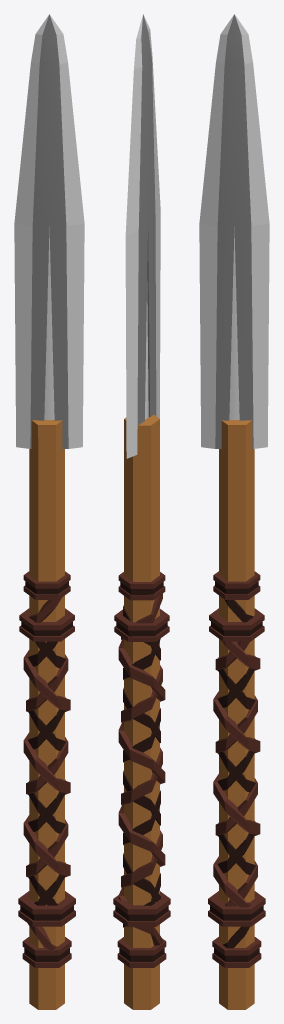
The model's file is Axe5.glb.
The picture shows the model from 3 angles, left to right: view 1: azimuth 90°, elevation 25°; view 2: azimuth 150°, elevation 25°; view 3: azimuth 270°, elevation 25°; orthographic projection.
Visible parts, largest first — view 1: weapon_generator; view 2: weapon_generator; view 3: weapon_generator.
Boxes of the visible parts, <box> form: weapon_generator: <box>14,14,84,1009</box>; weapon_generator: <box>113,14,170,1009</box>; weapon_generator: <box>199,14,269,1009</box>.
Size of the model in its own units: 0.0556 by 1.22 by 0.0786.
